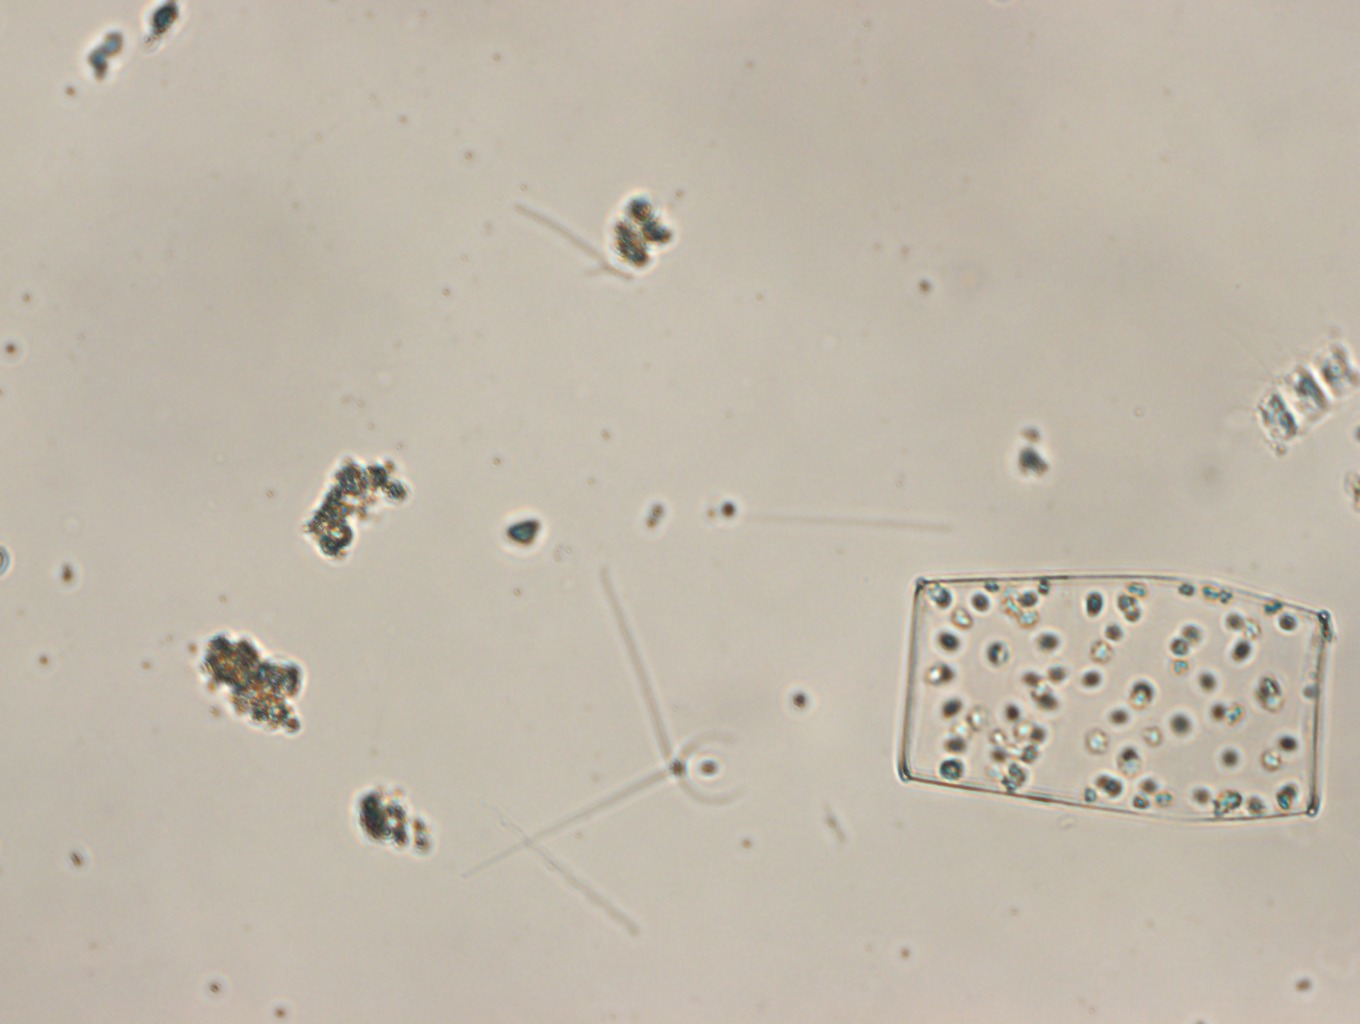chaetoceros: (1222, 312, 1360, 460)
guinardia flaccida: (899, 570, 1329, 824)
